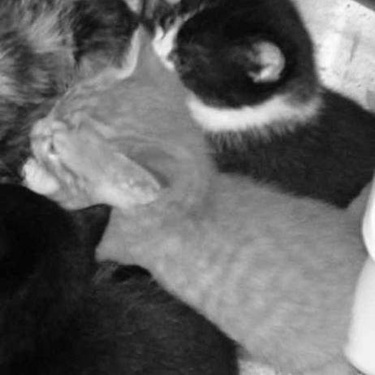cat: (22, 26, 373, 369), (148, 1, 372, 206), (1, 180, 239, 370), (8, 4, 77, 181), (68, 1, 145, 72)
